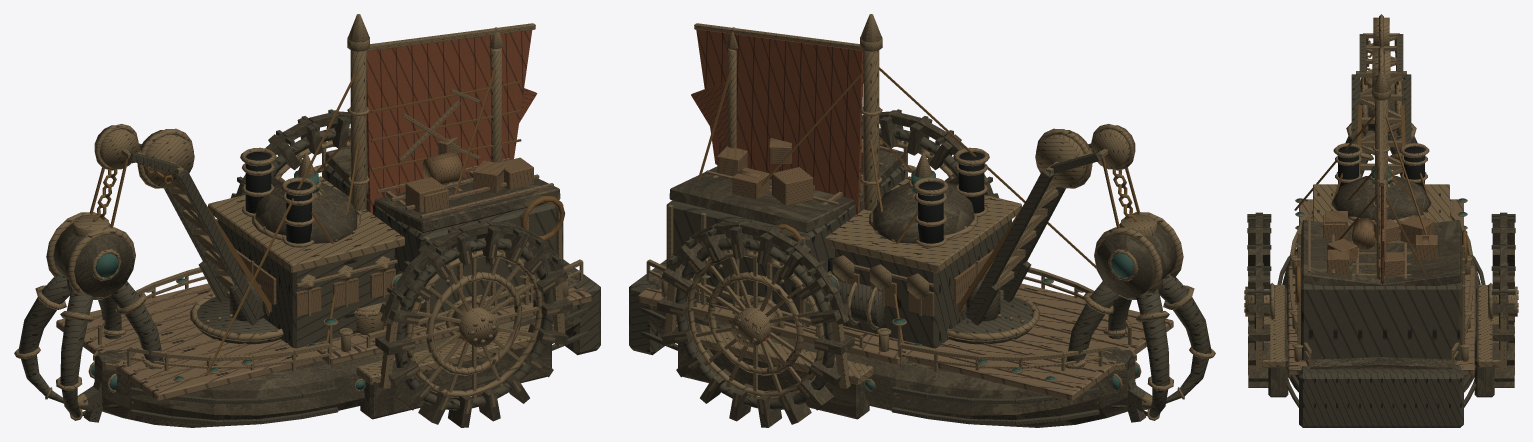
File: dredge-queen-detail-opus5.glb
3 renders of one model, left to right at view 1: azimuth 30°, elevation 25°; view 2: azimuth 150°, elevation 25°; view 3: azimuth 270°, elevation 25°, orthographic. The views are drawn at different scales.
Parts seen in each view (by area): view 1: hold, claw, paddle_port, paddle_starboard; view 2: hold, claw, paddle_starboard, paddle_port; view 3: hold, claw, paddle_port, paddle_starboard.
Part boxes in pixels (x1,y1,x2,y2): hold: (205,14,600,410); claw: (14,124,338,427); paddle_port: (356,219,572,427); paddle_starboard: (231,109,366,197); hold: (629,14,1096,410); claw: (891,124,1215,427); paddle_starboard: (657,219,873,427); paddle_port: (861,109,998,197); hold: (1283,69,1479,427); claw: (1277,14,1485,284); paddle_port: (1244,212,1288,397); paddle_starboard: (1474,212,1518,397).
Bounding box in the file's own units: 8 × 5.33 × 4.52.
1 material, 1 textured.
